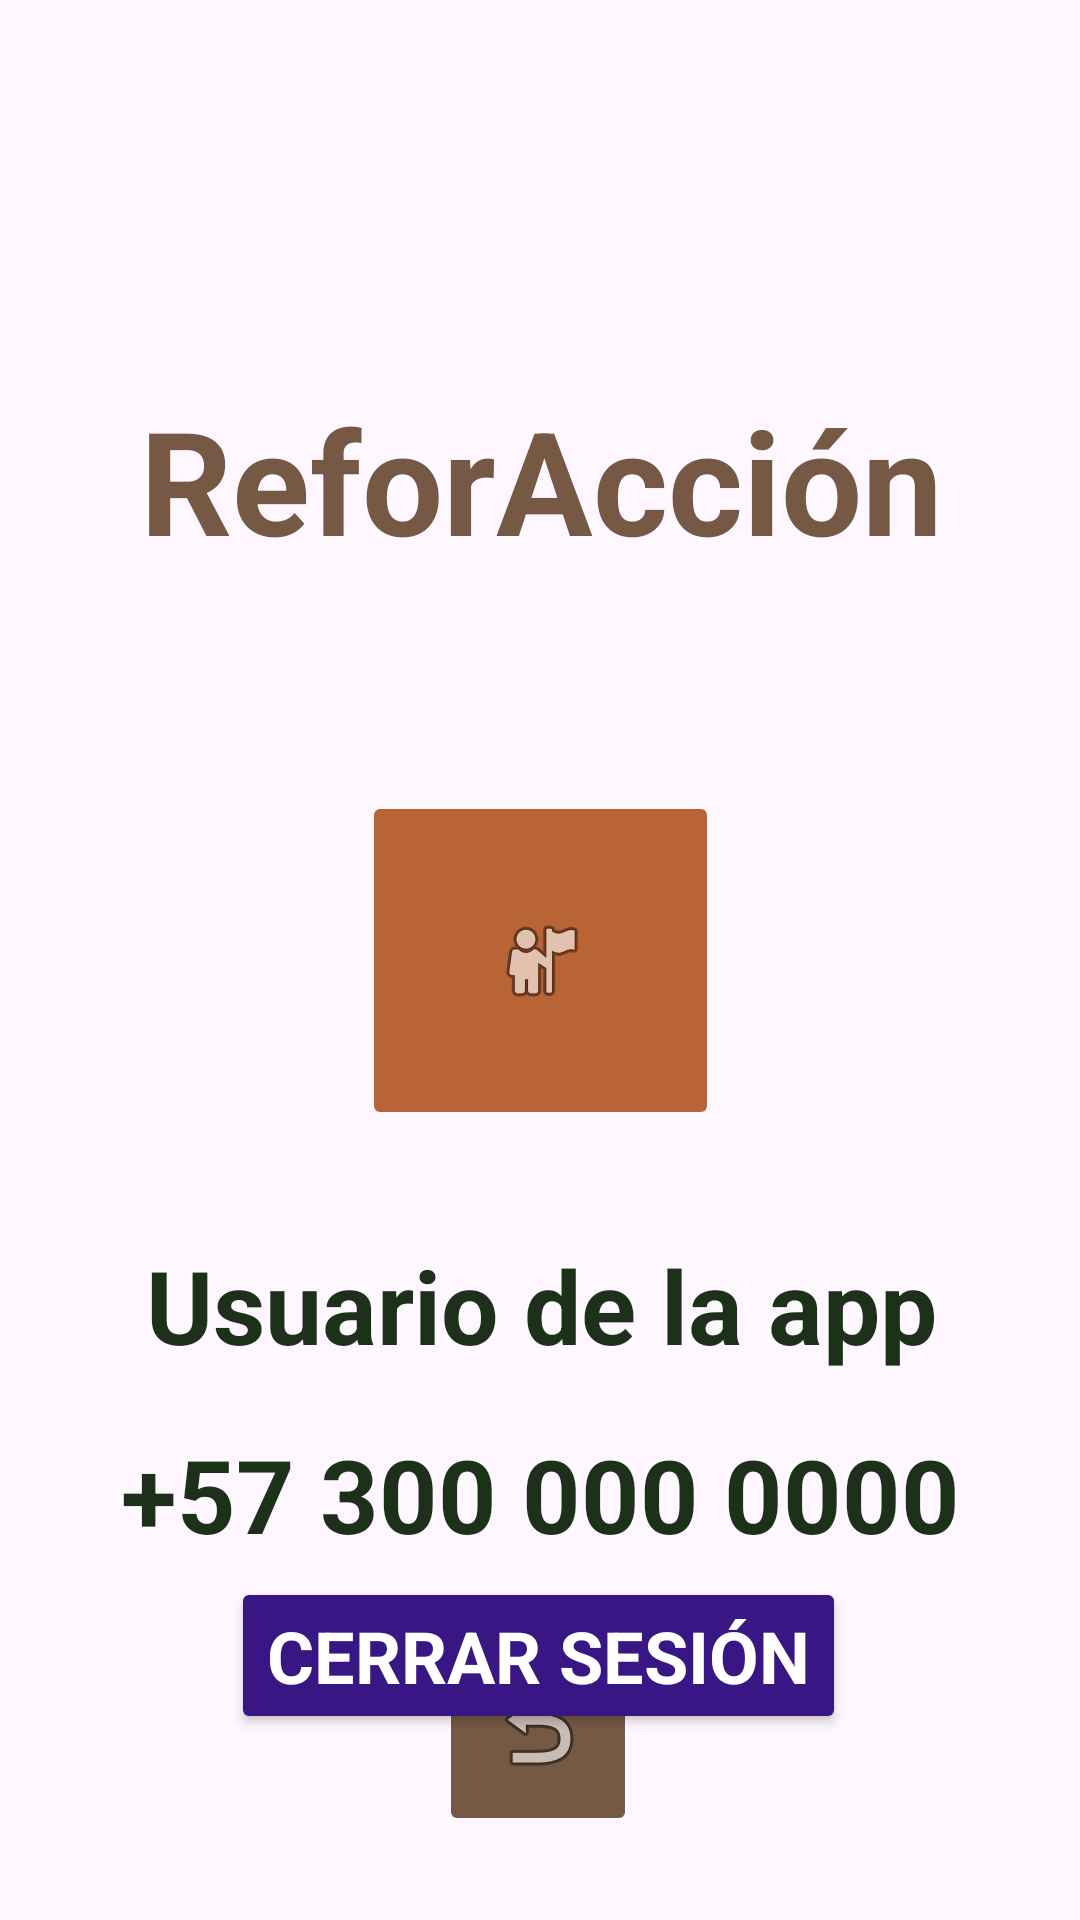

Icons on this 1080 × 1920 Android screen, each with its box as [x1=x1, y1=y1, x2=x2, y2=y2]:
myplaces: [x1=374, y1=809, x2=707, y2=1112]
